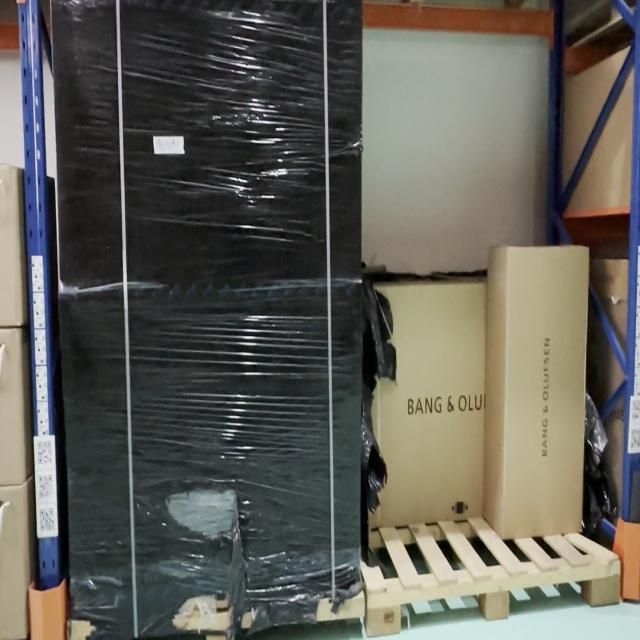box: (504, 253, 586, 539)
